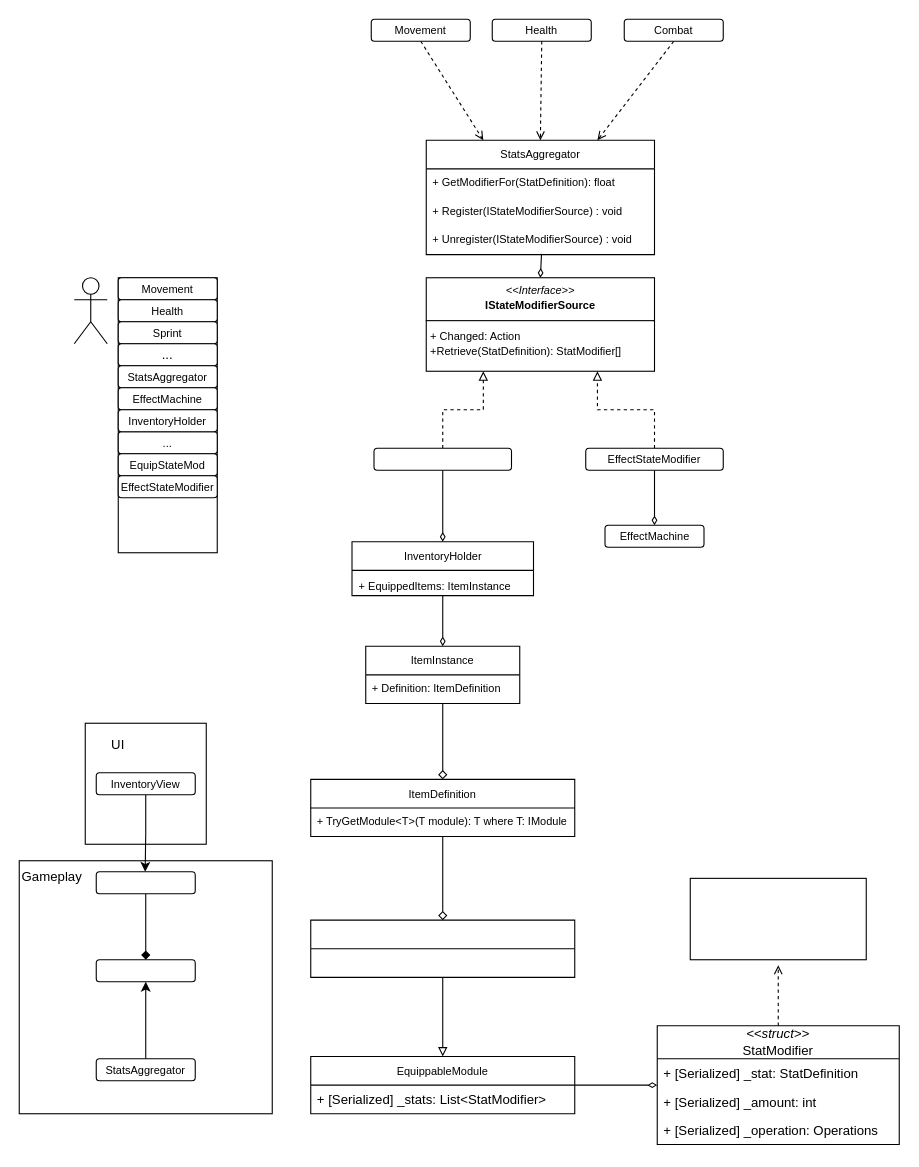
Image size: 919x1167. Some labels were removed from this diagram. The centre of each missing label's shape, as x and y in pixels:
EquipmentStateModifier: the point at 442,458
IModule: the point at 442,948
IStatsView: the point at 145,970
Operations Multiply Add: the point at 777,918
Player: the point at 90,310
StatsViewAnchor: the point at 145,882
